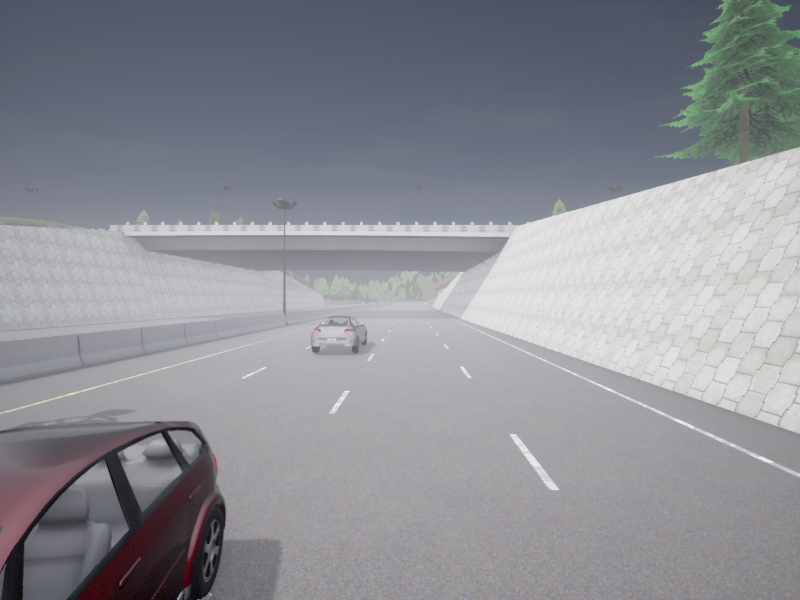vehicle: (0, 421, 225, 599), (311, 316, 366, 352)
